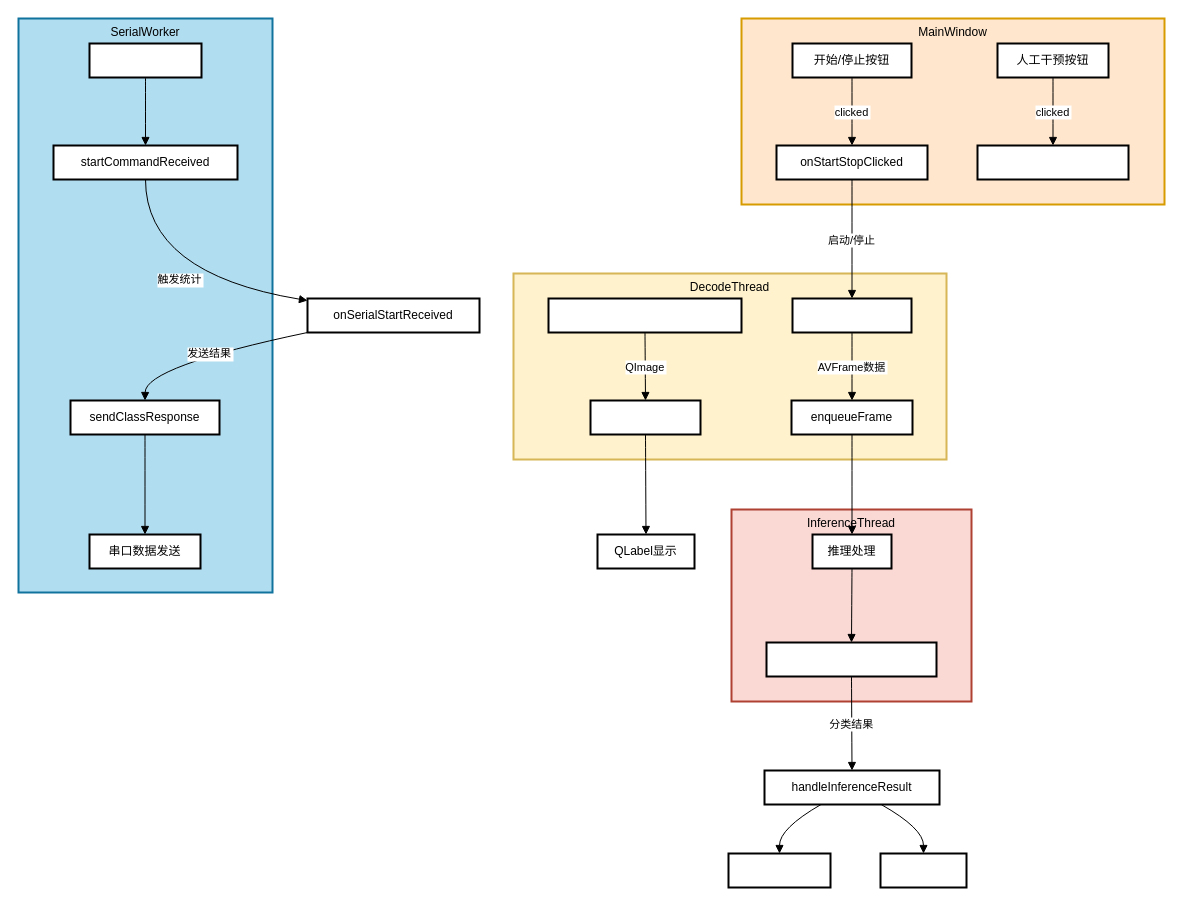
Some shapes in this 1182 by 905 pixel diagram are drawn without their labels. The shapes that lost their labels are listed below. From the top down, each one's centre as x and y in pixels, then its label:
At (145,60): "串口数据接收".
At (1052,162): "onManualIntervene".
At (644,315): "frameDecodedForDisplay".
At (851,315): "frameDecoded".
At (645,417): "displayFrame".
At (851,659): "inferenceResultReady".
At (779,870): "置信度Label".
At (923,870): "类别Label".
